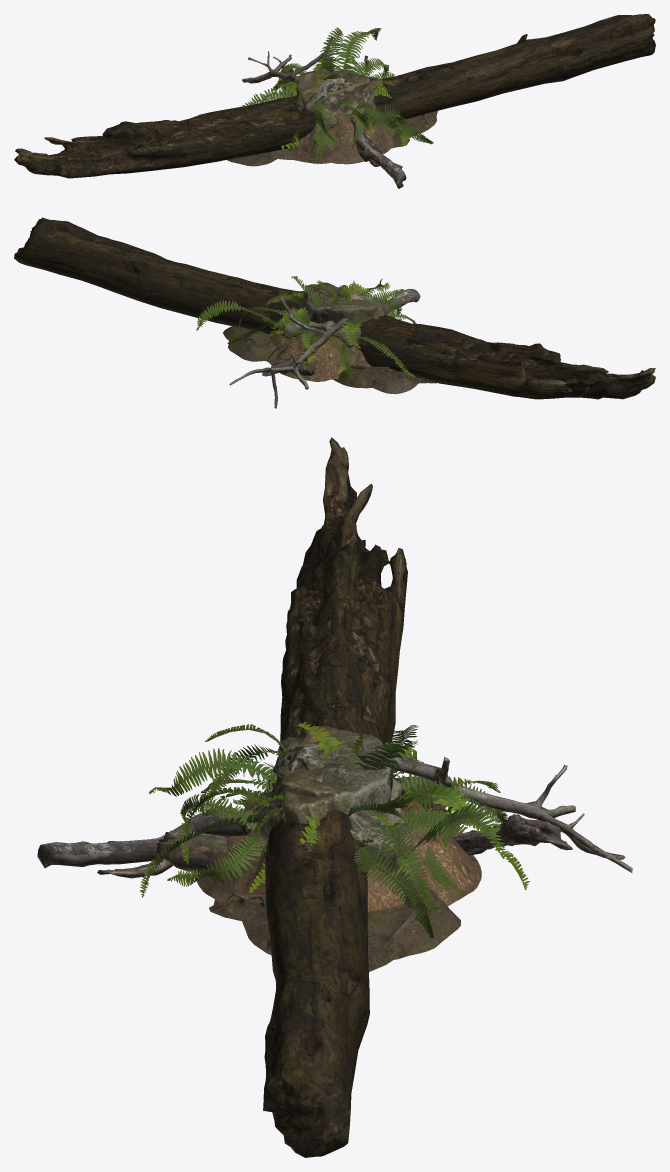
Rendered from forest_props.glb.
The picture shows the model from 3 angles, top to bottom: view 1: azimuth 30°, elevation 25°; view 2: azimuth 150°, elevation 25°; view 3: azimuth 270°, elevation 25°; orthographic projection. The views are drawn at different scales.
Visible parts, largest first — view 1: fallen_log_lod0, fern_b_lod0, stump_lod0, fern_c_lod0, dry_branch_a_lod0, rock_river_13_lod0, rock_river_11_lod0, roots_a_lod0, roots_b_lod0, fern_a_lod0; view 2: fallen_log_lod0, fern_b_lod0, stump_lod0, rock_river_13_lod0, dry_branch_a_lod0, roots_b_lod0, fern_c_lod0, roots_a_lod0, rock_river_11_lod0, dry_branch_b_lod0, fern_a_lod0; view 3: fallen_log_lod0, fern_b_lod0, fern_c_lod0, dry_branch_a_lod0, rock_river_13_lod0, stump_lod0, roots_b_lod0, rock_river_11_lod0, dry_branch_c_lod0, fern_a_lod0, dry_branch_b_lod0, roots_a_lod0.
Part boxes in pixels (bbox=[...]): fallen_log_lod0: bbox=[14, 14, 655, 178]; fern_b_lod0: bbox=[241, 27, 433, 164]; stump_lod0: bbox=[285, 110, 396, 164]; fern_c_lod0: bbox=[261, 61, 411, 150]; dry_branch_a_lod0: bbox=[242, 37, 406, 188]; rock_river_13_lod0: bbox=[296, 68, 382, 116]; rock_river_11_lod0: bbox=[295, 78, 375, 127]; roots_a_lod0: bbox=[227, 111, 437, 166]; roots_b_lod0: bbox=[271, 122, 409, 163]; fern_a_lod0: bbox=[360, 55, 400, 132]; fallen_log_lod0: bbox=[14, 217, 655, 399]; fern_b_lod0: bbox=[196, 276, 416, 378]; stump_lod0: bbox=[268, 329, 372, 381]; rock_river_13_lod0: bbox=[302, 282, 389, 326]; dry_branch_a_lod0: bbox=[229, 289, 420, 408]; roots_b_lod0: bbox=[228, 330, 418, 394]; fern_c_lod0: bbox=[227, 281, 404, 379]; roots_a_lod0: bbox=[223, 326, 436, 388]; rock_river_11_lod0: bbox=[280, 287, 373, 347]; dry_branch_b_lod0: bbox=[262, 357, 315, 376]; fern_a_lod0: bbox=[265, 293, 310, 361]; fallen_log_lod0: bbox=[263, 437, 407, 1157]; fern_b_lod0: bbox=[140, 722, 529, 913]; fern_c_lod0: bbox=[167, 724, 500, 938]; dry_branch_a_lod0: bbox=[37, 754, 632, 872]; rock_river_13_lod0: bbox=[278, 726, 392, 823]; stump_lod0: bbox=[192, 791, 481, 911]; roots_b_lod0: bbox=[209, 776, 460, 960]; rock_river_11_lod0: bbox=[257, 743, 412, 874]; dry_branch_c_lod0: bbox=[157, 811, 502, 871]; fern_a_lod0: bbox=[202, 803, 467, 897]; dry_branch_b_lod0: bbox=[97, 813, 572, 878]; roots_a_lod0: bbox=[242, 781, 459, 971].
Size of what is drawn, in the model's own units: 3.21 by 0.4158 by 1.3.
9 materials, 9 textured.
